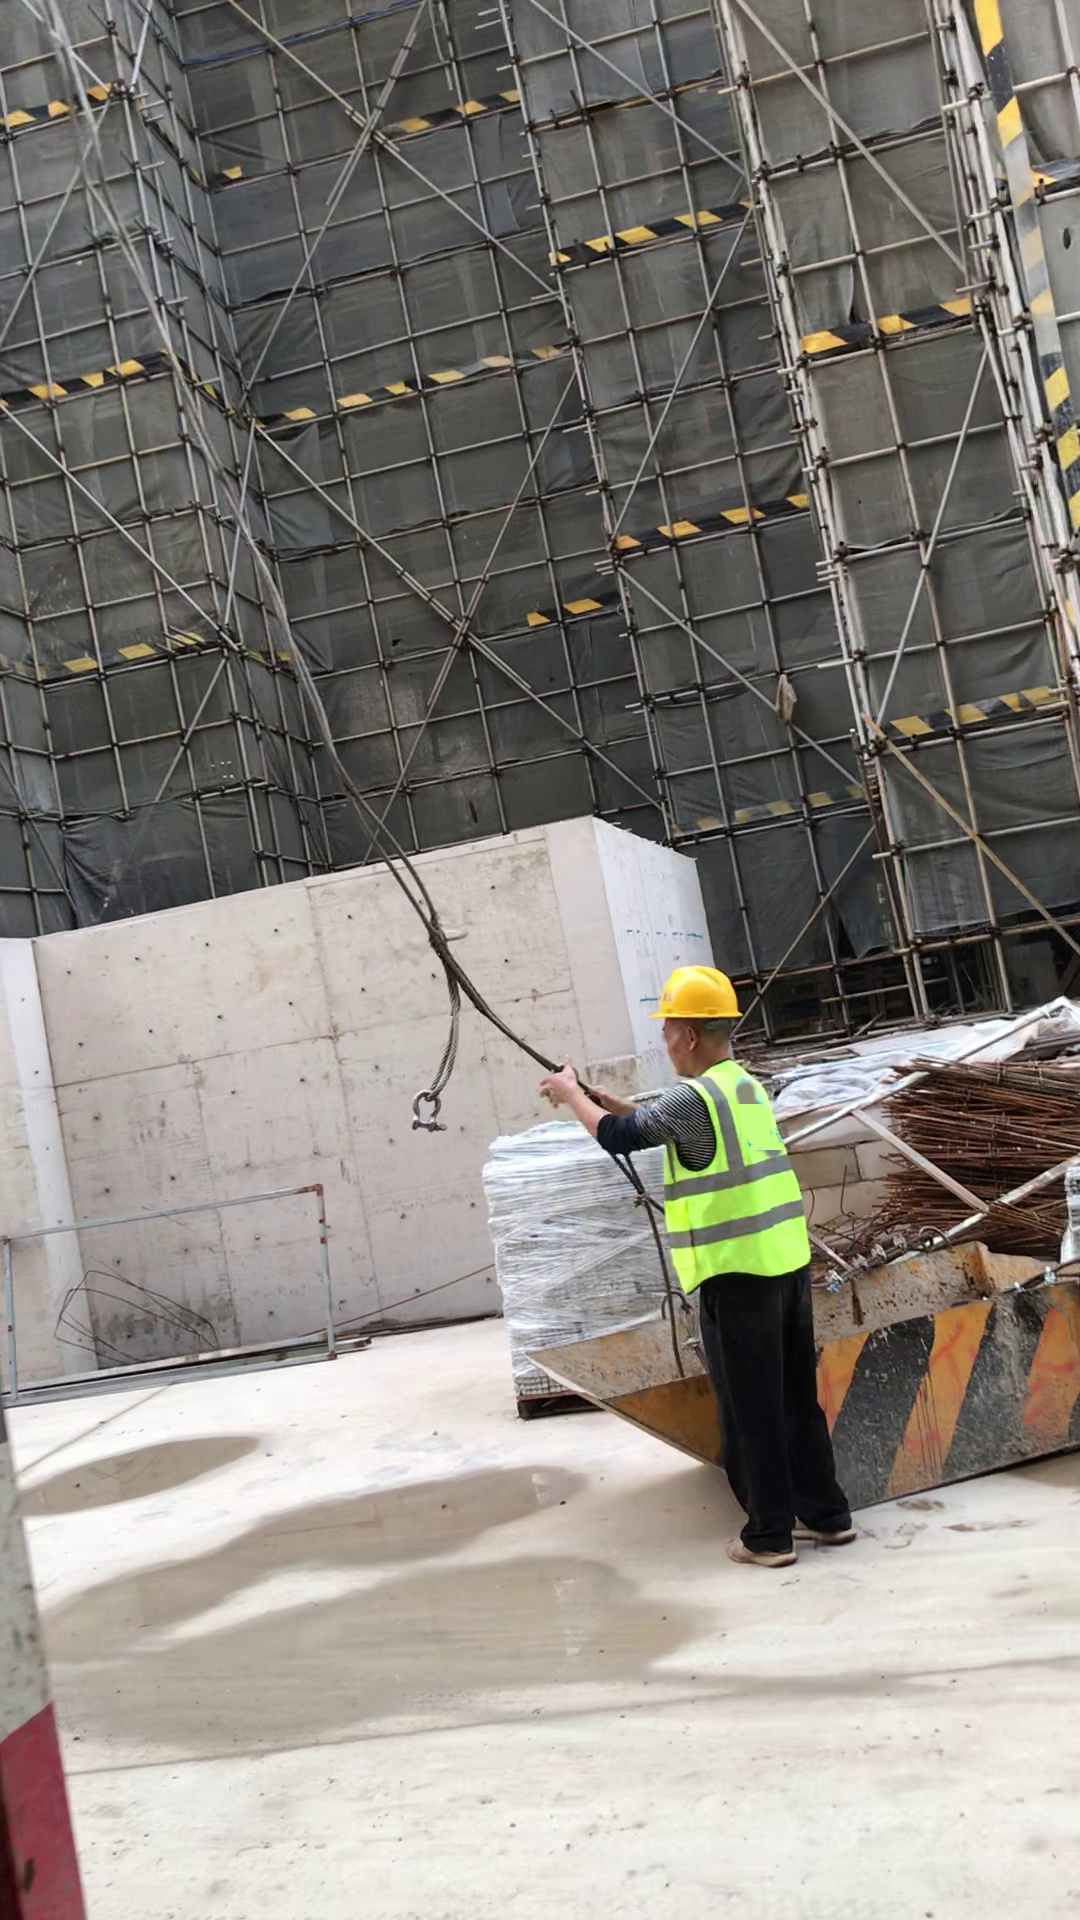helmet: (635, 963, 749, 1021)
hopper: (484, 1259, 1080, 1511)
person: (547, 961, 892, 1590)
vest: (653, 1068, 818, 1288)
